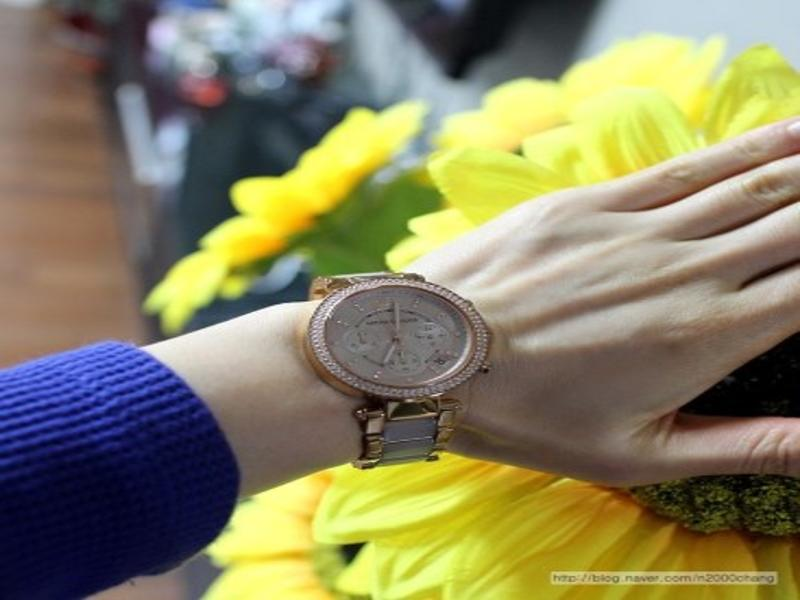watch: (304, 270, 493, 471)
